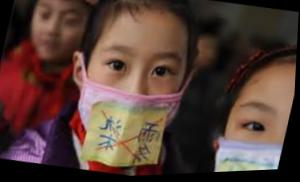NONE: (24, 1, 94, 69)
OK: (212, 87, 296, 174)
WRONG: (70, 27, 193, 155)
